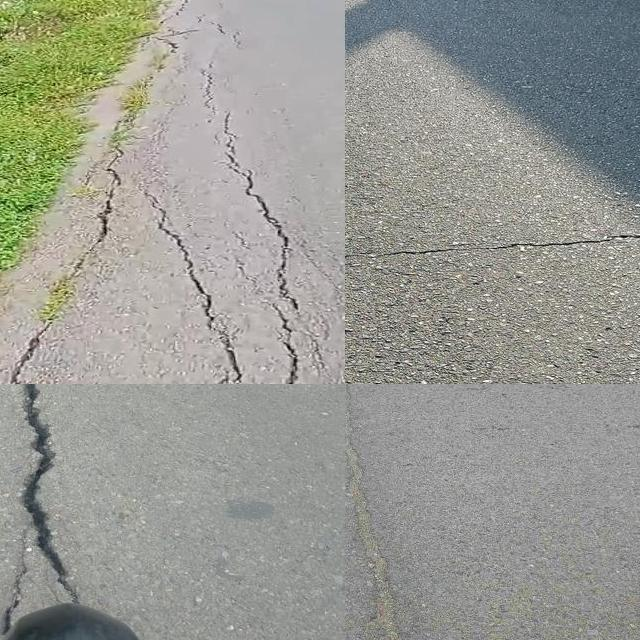Melintang: (345, 219, 640, 270)
Memanjang: (194, 40, 311, 384), (144, 194, 251, 384), (345, 384, 414, 640), (12, 384, 83, 600)
